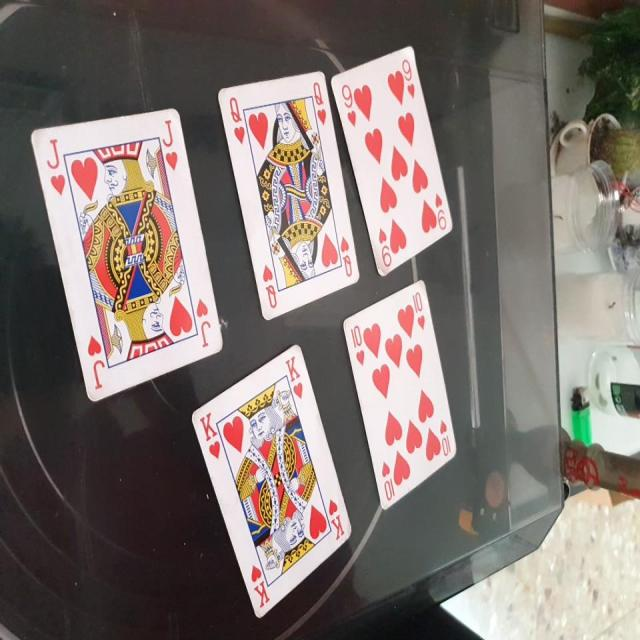10 Hearts: (346, 276, 464, 522)
9 Hearts: (328, 36, 461, 289)
J Hearts: (23, 103, 230, 406)
K Hearts: (190, 338, 358, 625)
Q Hearts: (209, 63, 364, 328)
